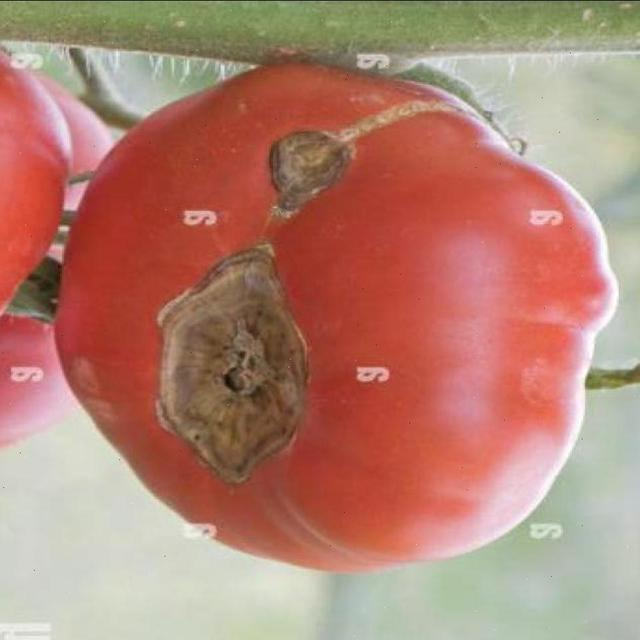Blossom End Rot Fruit: (90, 64, 210, 250)
